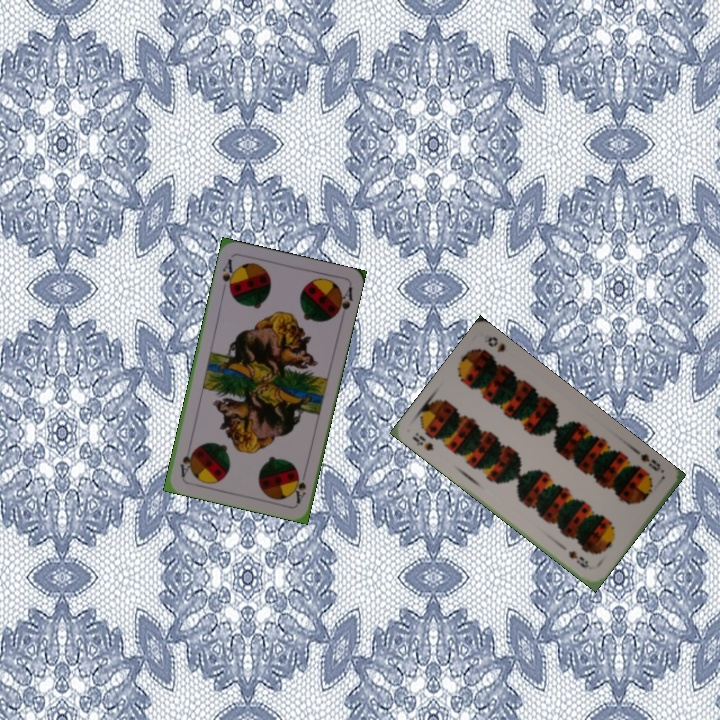S8: (408, 428, 437, 453), (636, 450, 663, 474)
SA: (218, 255, 238, 296), (290, 465, 309, 506)
